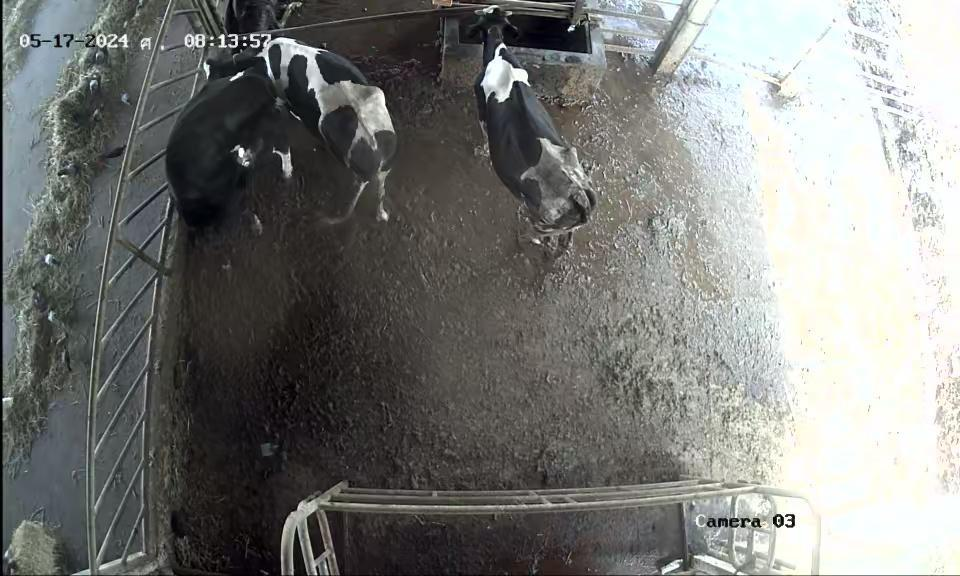drink: (462, 0, 534, 82)
lay: (171, 73, 307, 241)
stand: (206, 41, 423, 219)
